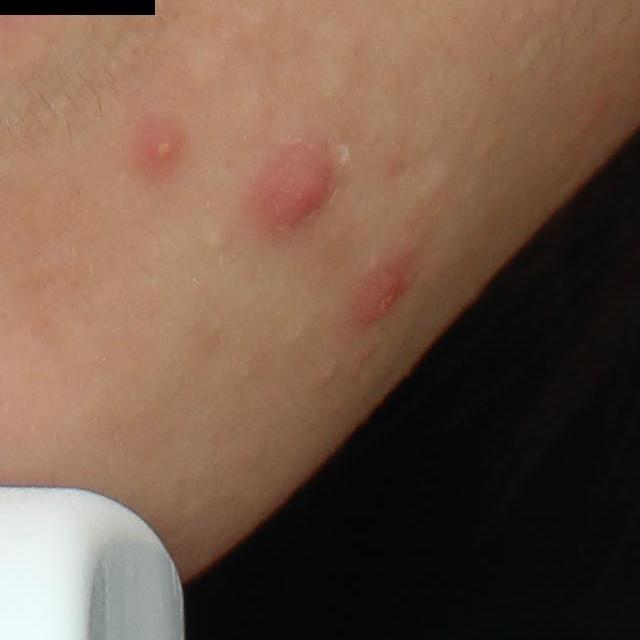comedo: (200, 220, 234, 254)
hypertrophic_scar: (315, 18, 368, 102)
papule: (257, 150, 342, 228), (351, 255, 413, 329)
